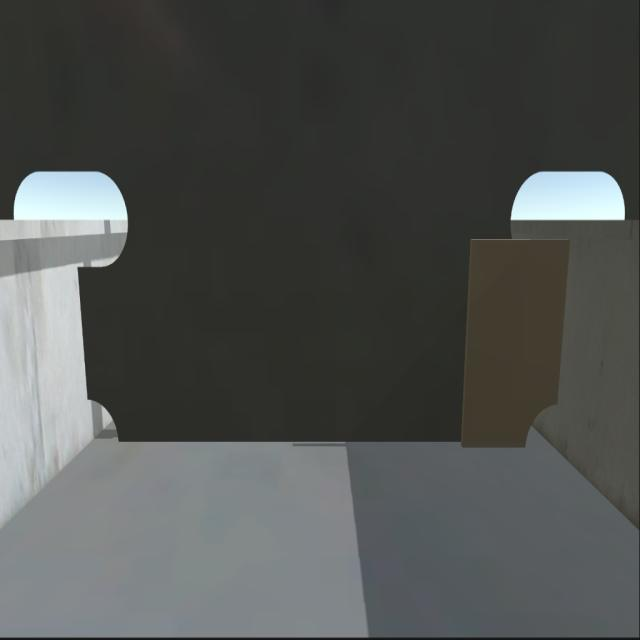fillet_hole: (517, 394, 563, 459), (84, 392, 124, 443)
fillet_yong_jeop_jang: (114, 439, 523, 451)
longi_yong_jeop_jang: (455, 228, 570, 446), (550, 235, 577, 408)
